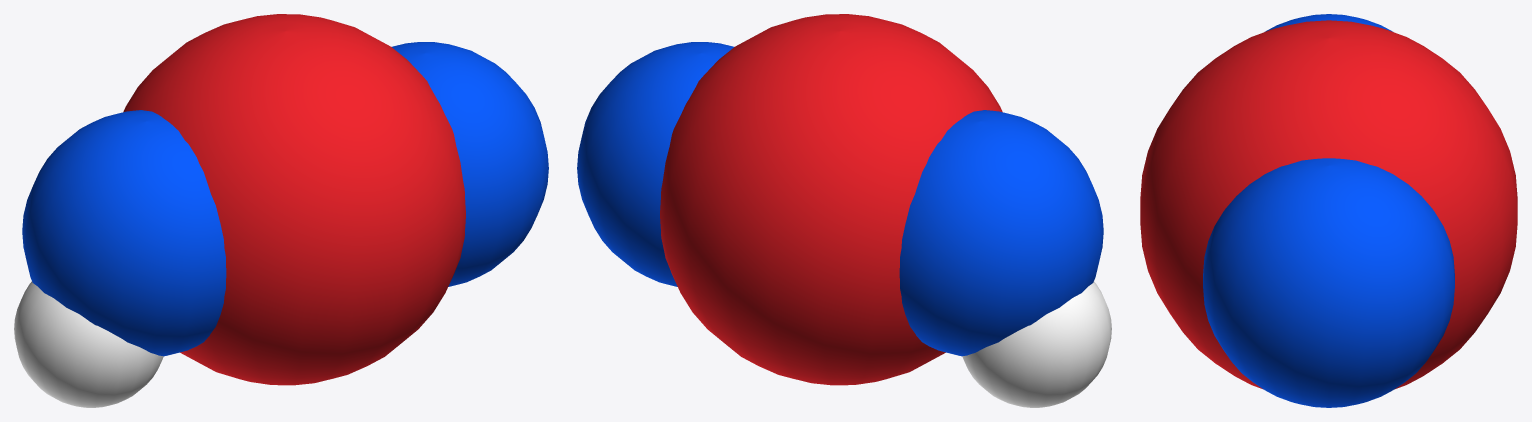
Rendered from HClO2.fbx.
3 renders of one model, left to right at view 1: azimuth 30°, elevation 25°; view 2: azimuth 150°, elevation 25°; view 3: azimuth 270°, elevation 25°, orthographic. The views are drawn at different scales.
Parts seen in each view (by area): view 1: Сферы_Node (×4); view 2: Сферы_Node (×4); view 3: Сферы_Node (×3).
Boxes of the visible parts, box(x1,y1,x2,y2) form: Сферы_Node (×4): box(14, 14, 548, 407); Сферы_Node (×4): box(577, 14, 1111, 407); Сферы_Node (×3): box(1140, 14, 1517, 407).
Bounding box in the file's own units: 3.79 × 2.4 × 2.38.
3 materials, 3 textured.
